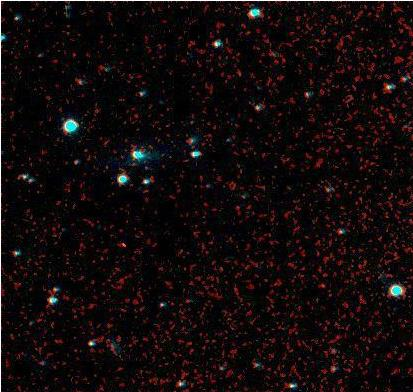star: (110, 228, 140, 258)
